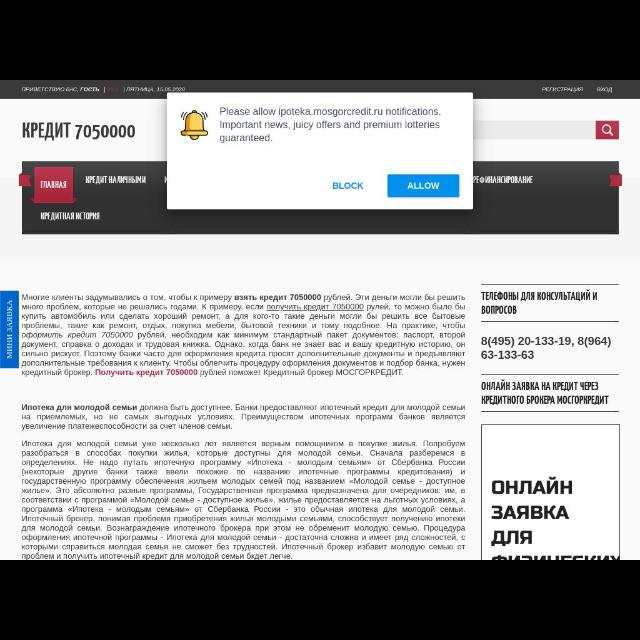icon: (600, 123, 614, 137)
input: (473, 122, 595, 138)
text: (21, 404, 465, 558), (21, 294, 466, 376), (492, 479, 618, 559), (220, 106, 440, 144), (481, 382, 609, 406), (481, 336, 611, 359), (480, 292, 598, 316), (21, 121, 134, 142), (84, 174, 148, 186), (472, 174, 532, 186), (21, 86, 99, 94), (5, 300, 15, 362), (40, 211, 101, 221), (126, 86, 186, 94), (407, 181, 441, 191), (542, 86, 584, 94), (332, 181, 363, 191), (40, 181, 68, 191), (596, 86, 616, 94), (106, 86, 120, 94)
textbutton: (388, 175, 458, 198)
